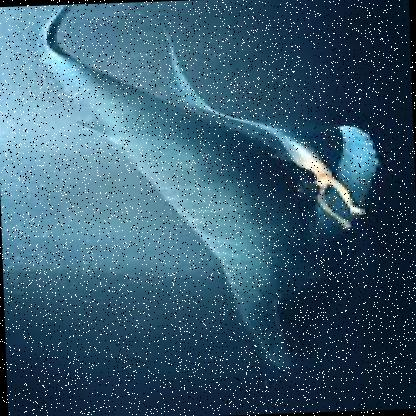blue_whale: (17, 0, 403, 389)
